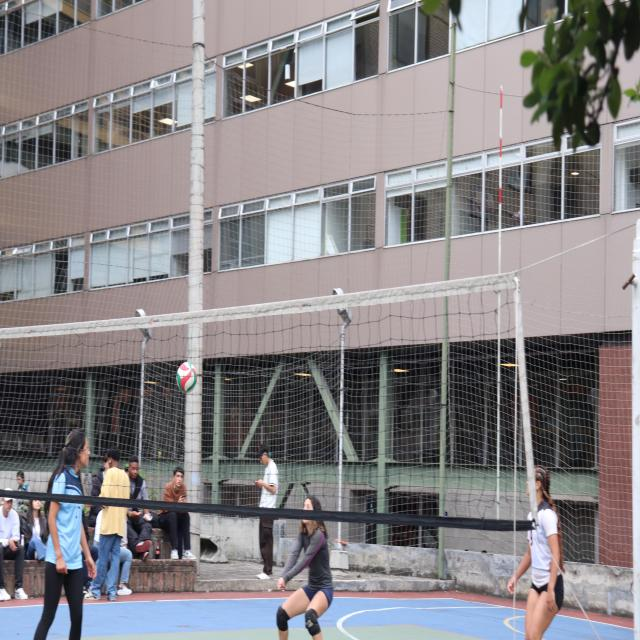volleyball: (177, 362, 197, 393)
